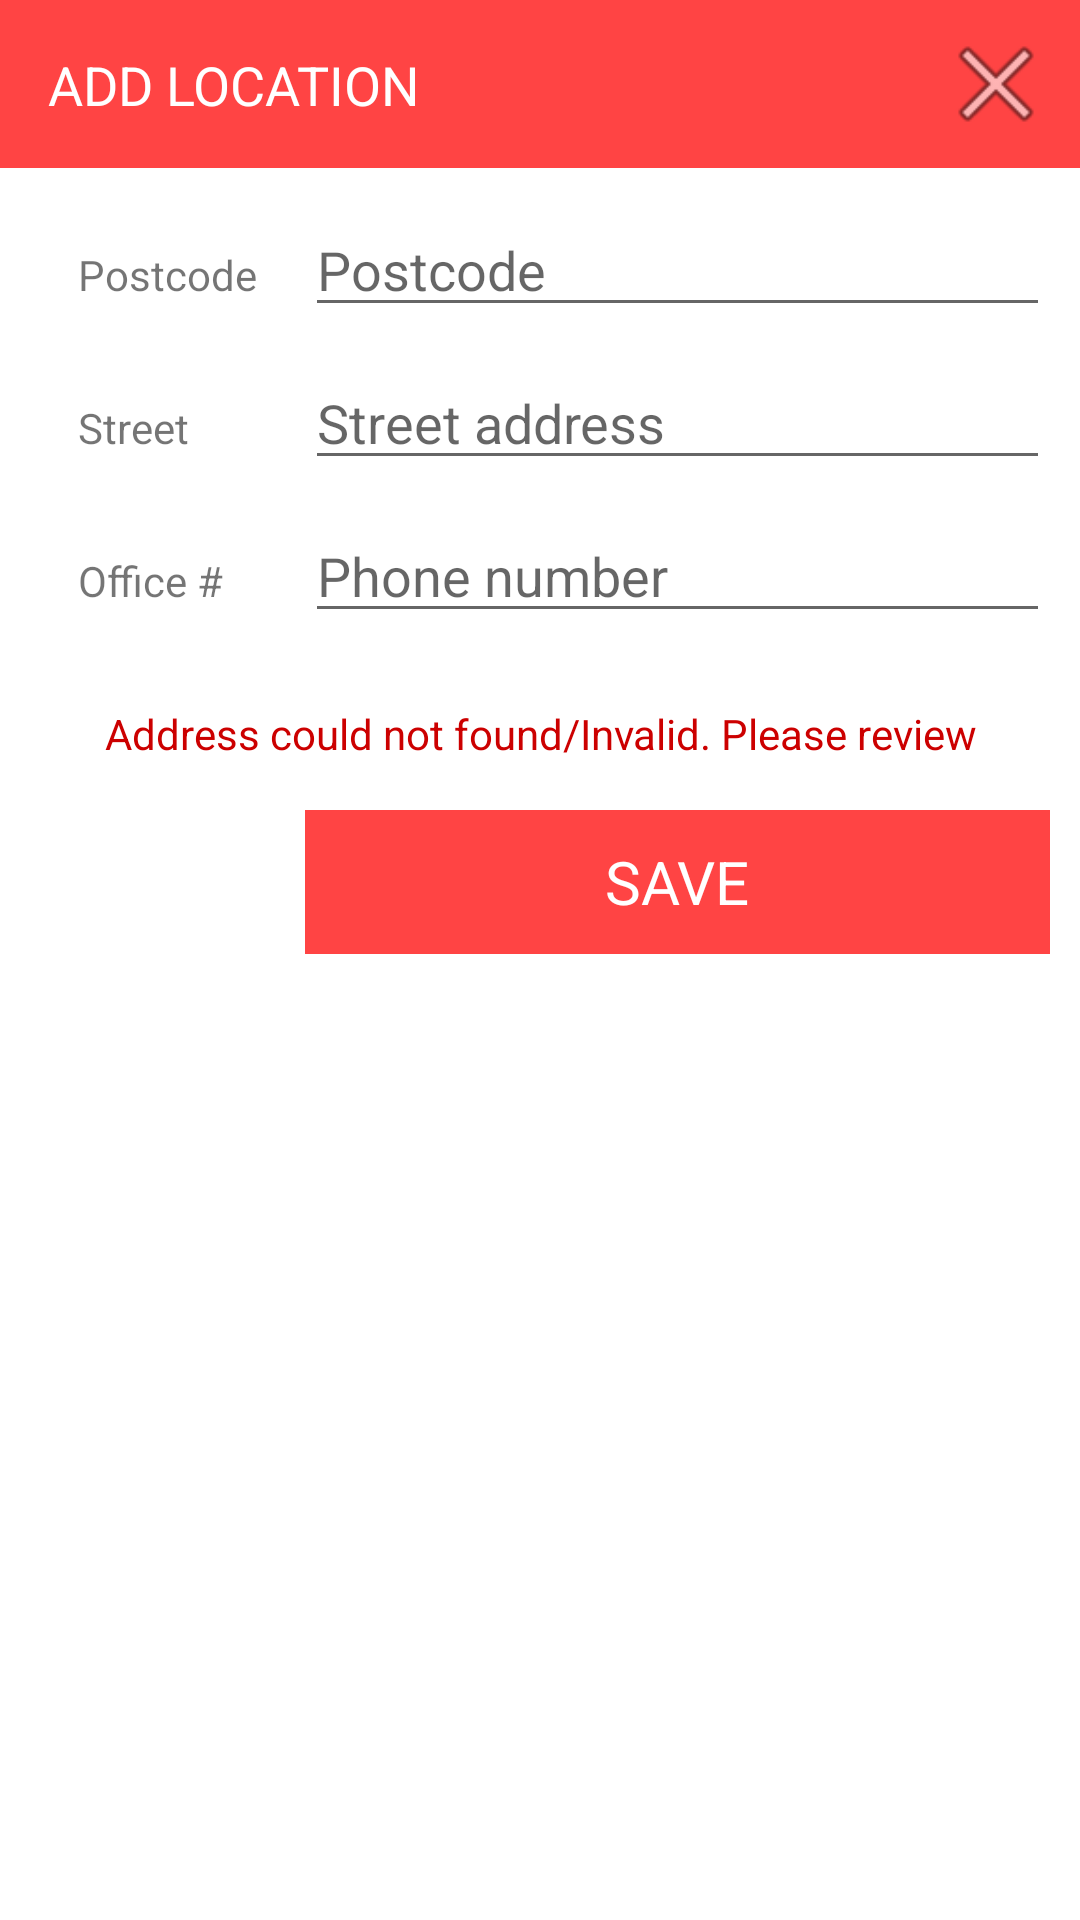

Icons on this 1080x1920 Android screen, each with the point to tap as (x,y):
close clear cancel: (996,84)
